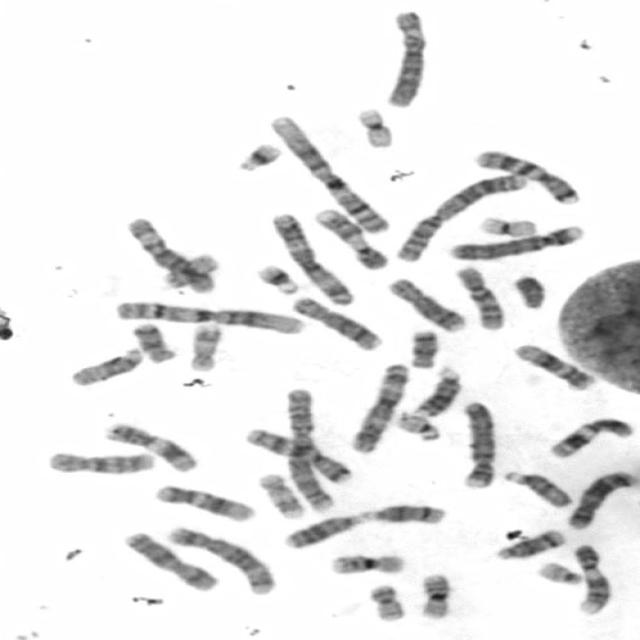A1: (265, 113, 392, 234), (111, 298, 307, 336)
A2: (390, 170, 530, 263), (280, 385, 336, 514)
A3: (267, 209, 356, 306), (346, 361, 412, 454)
B4: (444, 221, 588, 263), (456, 398, 499, 489)
B5: (163, 522, 279, 597), (563, 468, 636, 530)
C10: (450, 264, 506, 332), (42, 448, 157, 476)
C11: (99, 419, 199, 474), (545, 414, 635, 459)
C12: (508, 339, 596, 392), (150, 481, 258, 523)
C6: (121, 213, 217, 293), (378, 7, 430, 108)
C7: (242, 424, 352, 486), (470, 147, 581, 206)
C8: (287, 294, 384, 353), (382, 275, 468, 333)
C9: (310, 205, 389, 271), (569, 541, 612, 616)
D13: (279, 512, 367, 552), (409, 364, 465, 419)
D14: (492, 526, 567, 562), (361, 503, 449, 528)
D15: (66, 344, 145, 388), (500, 468, 574, 509)
E16: (326, 551, 408, 575), (414, 571, 454, 620)
E17: (254, 470, 306, 520), (182, 321, 224, 372)
E18: (127, 320, 176, 364), (405, 327, 441, 370)
F19: (352, 103, 399, 150), (474, 213, 540, 239)
F20: (157, 251, 221, 292), (365, 582, 407, 622)
G21: (252, 260, 302, 297), (231, 140, 284, 173)
G22: (393, 409, 442, 442), (534, 559, 584, 585)
X: (120, 528, 220, 593)
Y: (509, 272, 549, 310)
